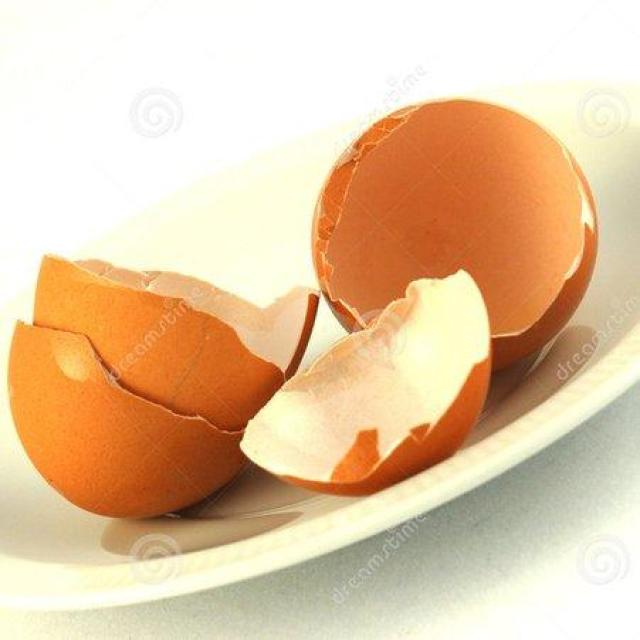organic: (7, 99, 597, 519)
